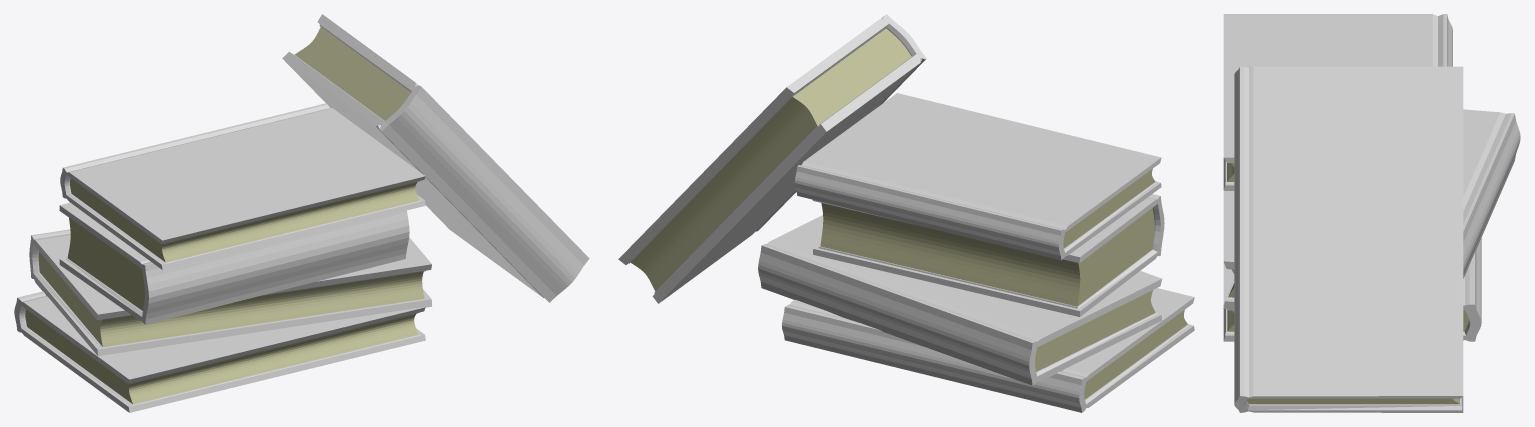
File: books.fbx
3 views of the same model, side by side, from view 1: azimuth 30°, elevation 25°; view 2: azimuth 150°, elevation 25°; view 3: azimuth 270°, elevation 25° (orthographic). The views are drawn at different scales.
Visible parts, largest first — view 1: Book0.001, Book0, Book0.004, Book0.002, Book0.003; view 2: Book0.001, Book0, Book0.003, Book0.002, Book0.004; view 3: Book0, Book0.001, Book0.003, Book0.004.
Boxes of the visible parts, x1,y1,x2,y2 form: Book0.001: (60,103,425,269); Book0: (282,14,589,302); Book0.004: (14,291,425,412); Book0.002: (59,202,409,324); Book0.003: (29,229,432,356); Book0.001: (794,93,1161,260); Book0: (618,14,926,303); Book0.003: (758,215,1162,385); Book0.002: (812,194,1164,316); Book0.004: (781,288,1194,412); Book0: (1234,66,1463,412); Book0.001: (1223,14,1452,190); Book0.003: (1223,109,1520,309); Book0.004: (1223,191,1481,341).
Size of the model in its own units: 48.62 by 24.6 by 23.91.
